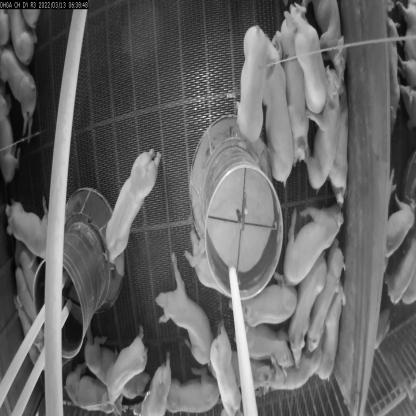Pig: (305, 229, 348, 349), (257, 40, 295, 175), (240, 352, 324, 409), (288, 200, 339, 287), (105, 147, 149, 246), (104, 322, 152, 409), (231, 23, 263, 146), (165, 272, 206, 368), (281, 16, 311, 147), (293, 10, 326, 122), (164, 369, 238, 416), (311, 68, 339, 190), (288, 257, 321, 358), (2, 59, 42, 138), (8, 189, 54, 257), (228, 277, 284, 331), (187, 228, 231, 294), (238, 322, 288, 376), (65, 350, 105, 415), (209, 330, 237, 407), (144, 362, 182, 415)
